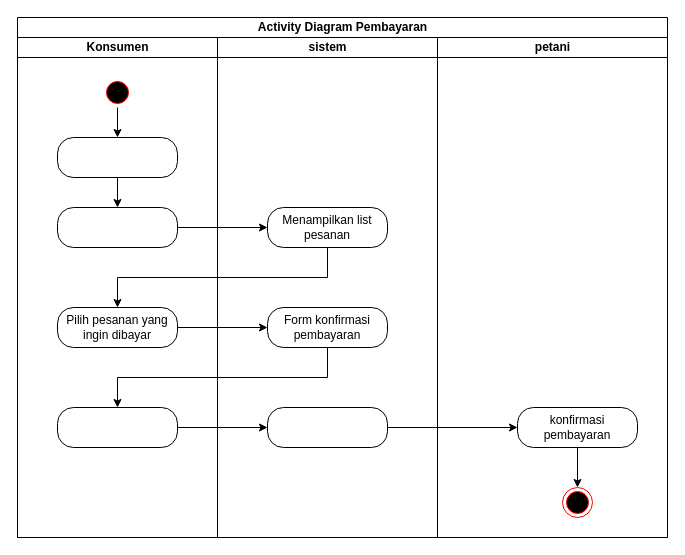
The diagram is 685 pixels wide and 555 high, and some of its shapes have lost their labels. Here are the shapes that lost their labels. From the top down, the centre of each, then its label:
At (117,157): "Login".
At (117,227): "Pilih menu pesanan".
At (117,427): "Kirim bukti pemayaran".
At (327,427): "Simpan bukti pembayaran".
